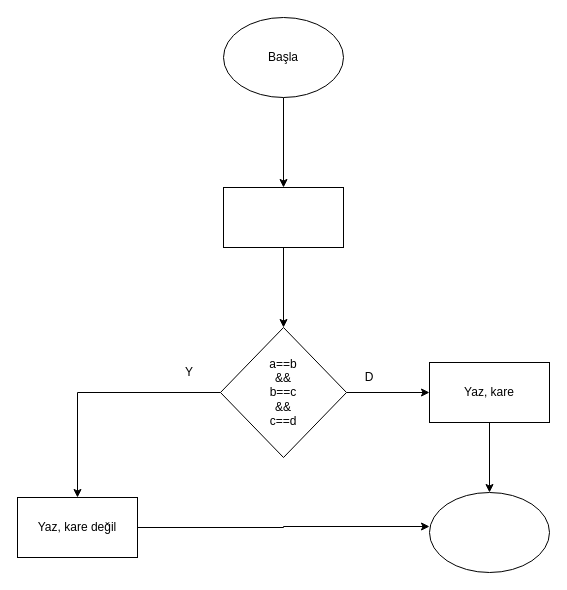
The diagram is 567 pixels wide and 590 high, and some of its shapes have lost their labels. The shapes that lost their labels are listed below. From the top down, each one's centre as x and y in pixels, then its label:
(x=283, y=217): Oku, a,b,c,d
(x=489, y=532): Son
